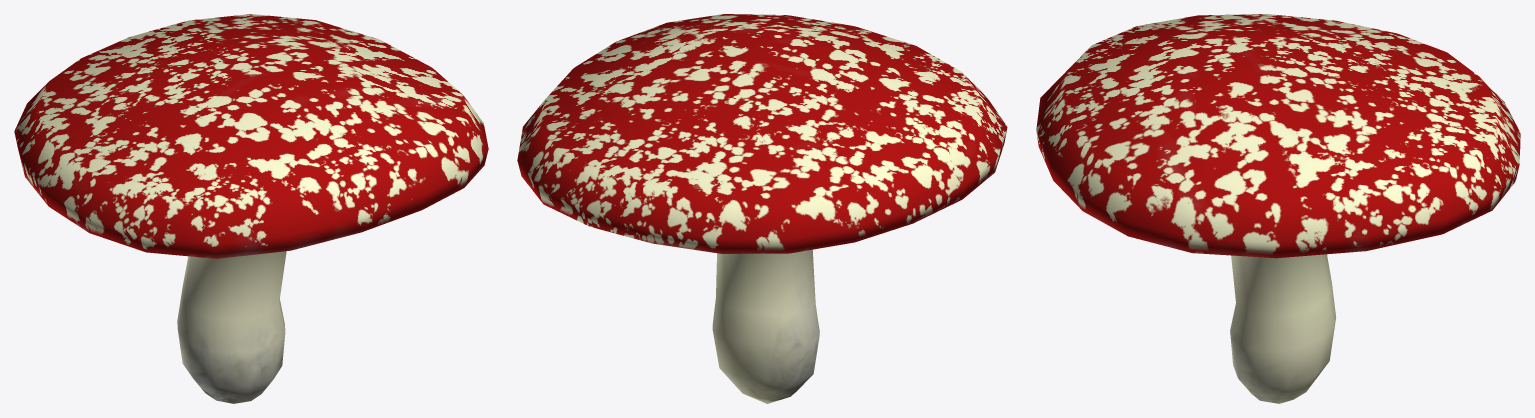
The model's file is mushroom.fbx.
3 renders of one model, left to right at view 1: azimuth 30°, elevation 25°; view 2: azimuth 150°, elevation 25°; view 3: azimuth 270°, elevation 25°, orthographic. The views are drawn at different scales.
Visible parts, largest first — view 1: Mushroom 1; view 2: Mushroom 1; view 3: Mushroom 1.
Boxes of the visible parts, x1,y1,x2,y2 form: Mushroom 1: [14, 14, 488, 403]; Mushroom 1: [517, 14, 1007, 403]; Mushroom 1: [1036, 14, 1520, 403].
Bounding box in the file's own units: 11.42 × 8.88 × 11.29.
Materials: 1 (1 with a texture image).
